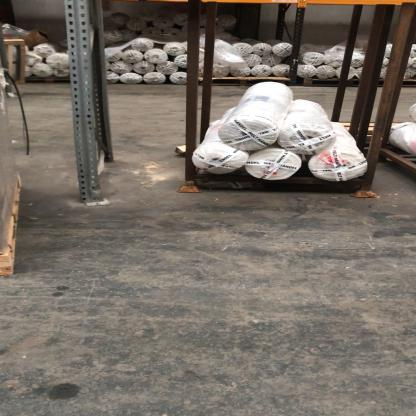vertical_damage: (76, 177, 113, 207)
